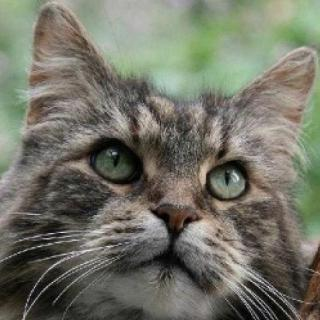cat: (32, 2, 317, 314)
nose: (149, 193, 200, 251)
